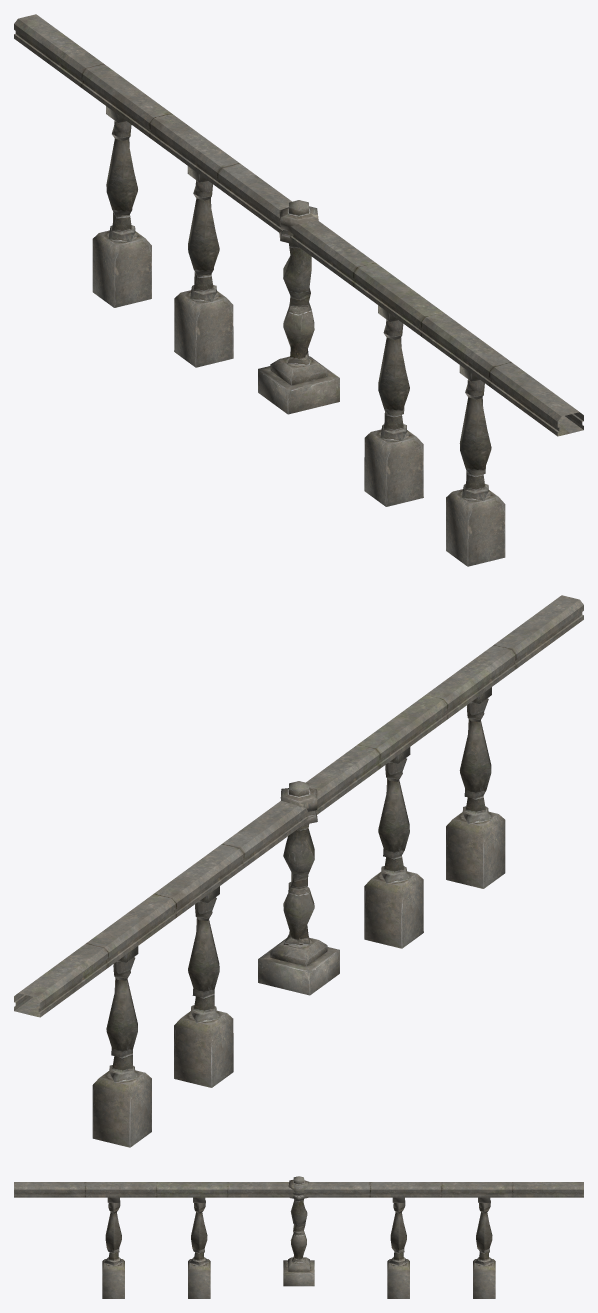
File: Railing01_1.fbx
The picture shows the model from 3 angles, top to bottom: view 1: azimuth 30°, elevation 25°; view 2: azimuth 150°, elevation 25°; view 3: azimuth 270°, elevation 25°; orthographic projection. The views are drawn at different scales.
Parts seen in each view (by area): view 1: Railing01_1; view 2: Railing01_1; view 3: Railing01_1.
Part boxes in pixels (x1=…): Railing01_1: x1=14, y1=14, x2=583, y2=566; Railing01_1: x1=14, y1=595, x2=583, y2=1147; Railing01_1: x1=14, y1=1176, x2=583, y2=1298.
Bounding box in the file's own units: 27.72 × 114 × 500.
